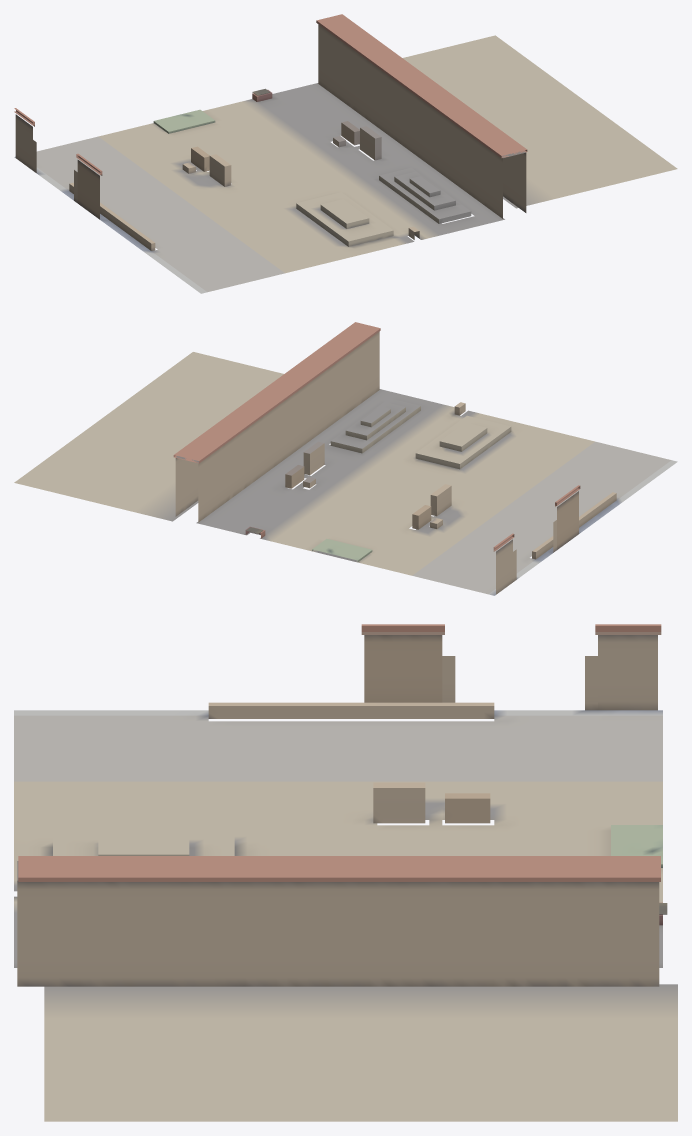
3 renders of one model, top to bottom at view 1: azimuth 30°, elevation 25°; view 2: azimuth 150°, elevation 25°; view 3: azimuth 270°, elevation 25°, orthographic. The views are drawn at different scales.
Visible parts, largest first — view 1: t; view 2: t; view 3: t.
Part boxes in pixels (x1,y1,x2,y2): t: [14, 14, 677, 293]; t: [14, 322, 677, 595]; t: [14, 624, 677, 1121].
Size of the model in its own units: 75.1 by 9.35 by 51.16.
